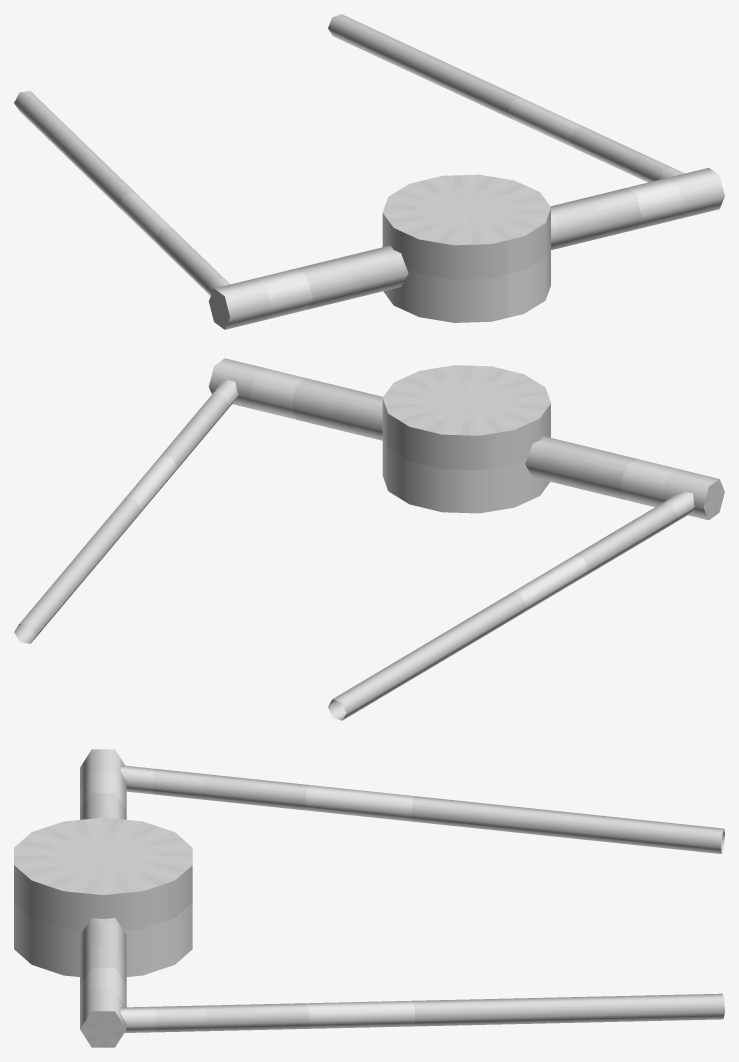
Rendered from nycsignalarm_regular4_c0_pedestal.obj.
3 renders of one model, top to bottom at view 1: azimuth 30°, elevation 25°; view 2: azimuth 150°, elevation 25°; view 3: azimuth 270°, elevation 25°, orthographic. The views are drawn at different scales.
Visible parts, largest first — view 1: nycsignalarm_regular4_c0_pedestal; view 2: nycsignalarm_regular4_c0_pedestal; view 3: nycsignalarm_regular4_c0_pedestal.
Boxes of the visible parts, x1=… form: nycsignalarm_regular4_c0_pedestal: x1=14, y1=14, x2=724, y2=329; nycsignalarm_regular4_c0_pedestal: x1=14, y1=358, x2=724, y2=720; nycsignalarm_regular4_c0_pedestal: x1=14, y1=749, x2=724, y2=1047.
Size of the model in its own units: 1.5 by 0.225 by 1.72.
